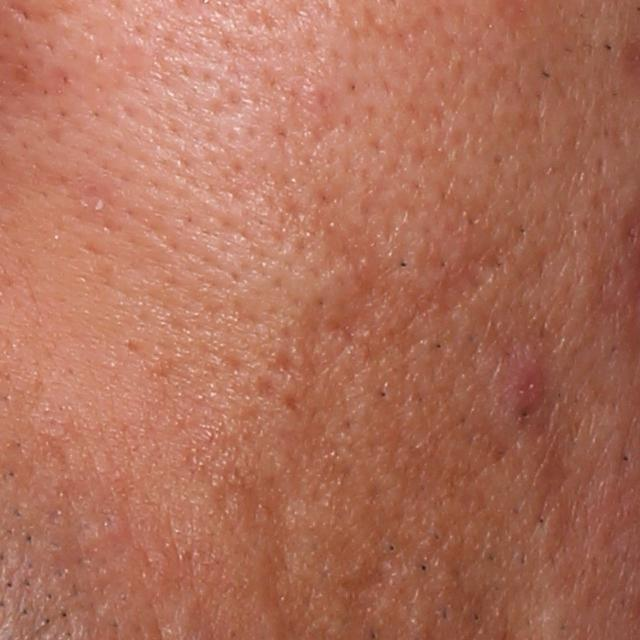atrophic_scar: (280, 66, 312, 134), (254, 373, 282, 404)
papule: (499, 352, 558, 431)
